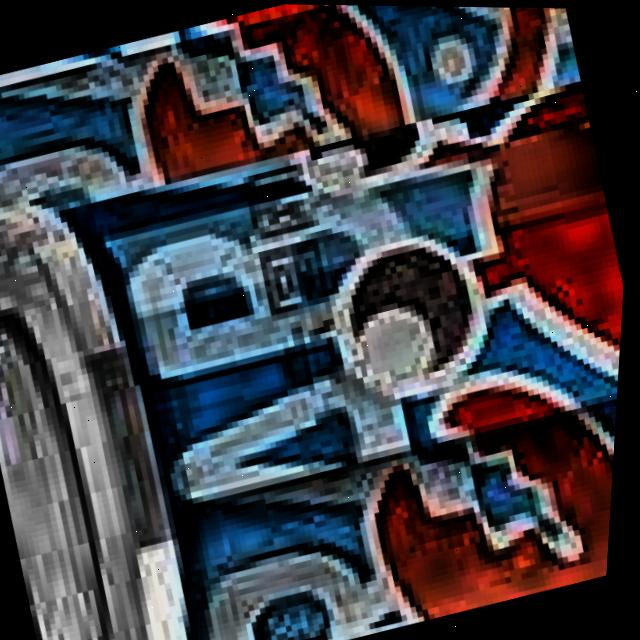metal: (0, 48, 638, 640), (0, 0, 629, 410), (0, 237, 629, 640)
